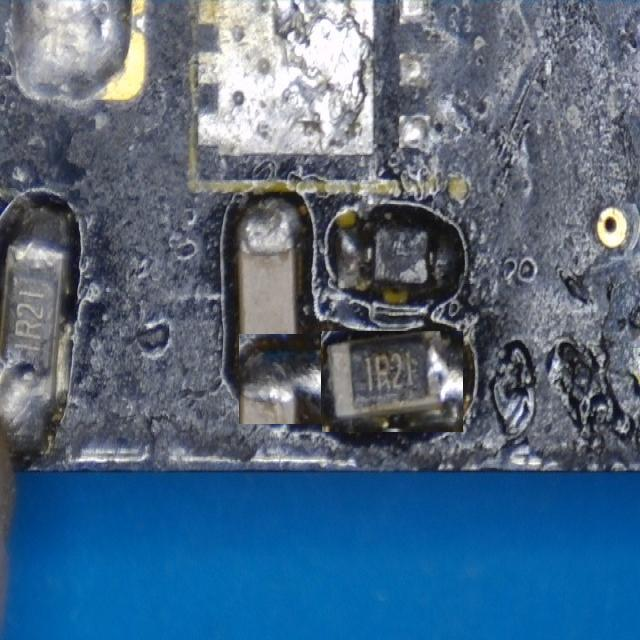Incorrect_installation: (322, 331, 463, 430)
Short_circuit: (239, 334, 354, 424)
